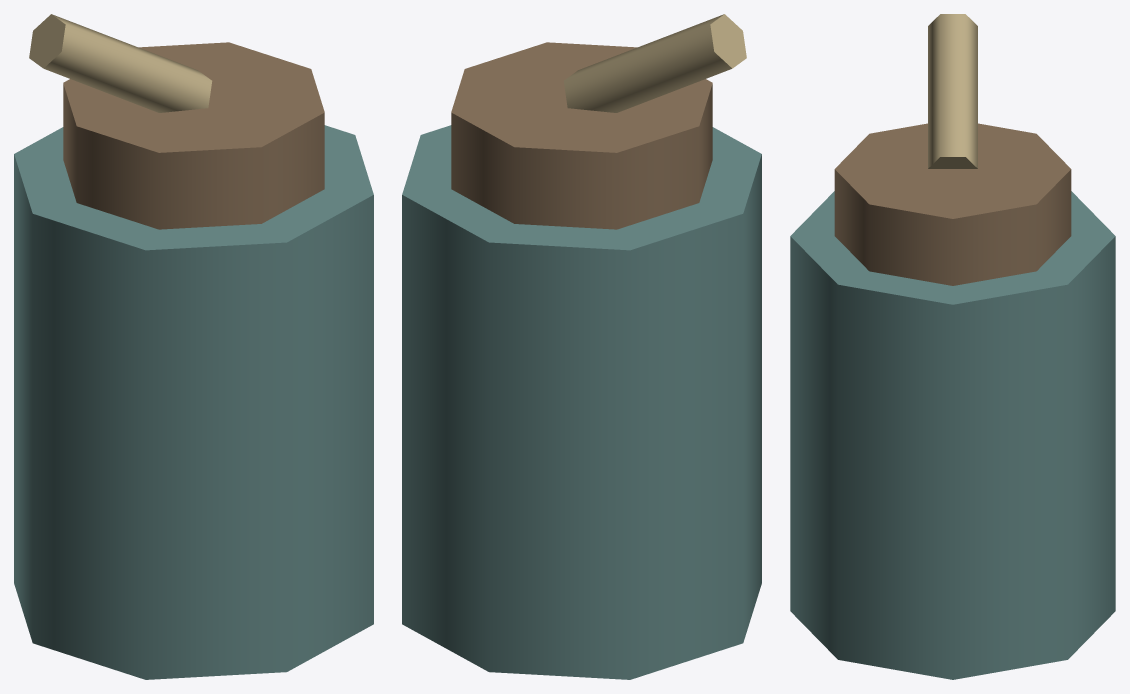
Rendered from spread-portable-brew-throwable.fbx.
The picture shows the model from 3 angles, left to right: view 1: azimuth 30°, elevation 25°; view 2: azimuth 150°, elevation 25°; view 3: azimuth 270°, elevation 25°; orthographic projection. The views are drawn at different scales.
Parts seen in each view (by area): view 1: spread-portable-brew-throwable__Geometry; view 2: spread-portable-brew-throwable__Geometry; view 3: spread-portable-brew-throwable__Geometry.
Part boxes in pixels (box(x1,y1,x2,y2)): spread-portable-brew-throwable__Geometry: box(14, 14, 373, 679); spread-portable-brew-throwable__Geometry: box(402, 14, 761, 679); spread-portable-brew-throwable__Geometry: box(790, 14, 1115, 679).
Size of the model in its own units: 0.22 by 0.4026 by 0.22.
